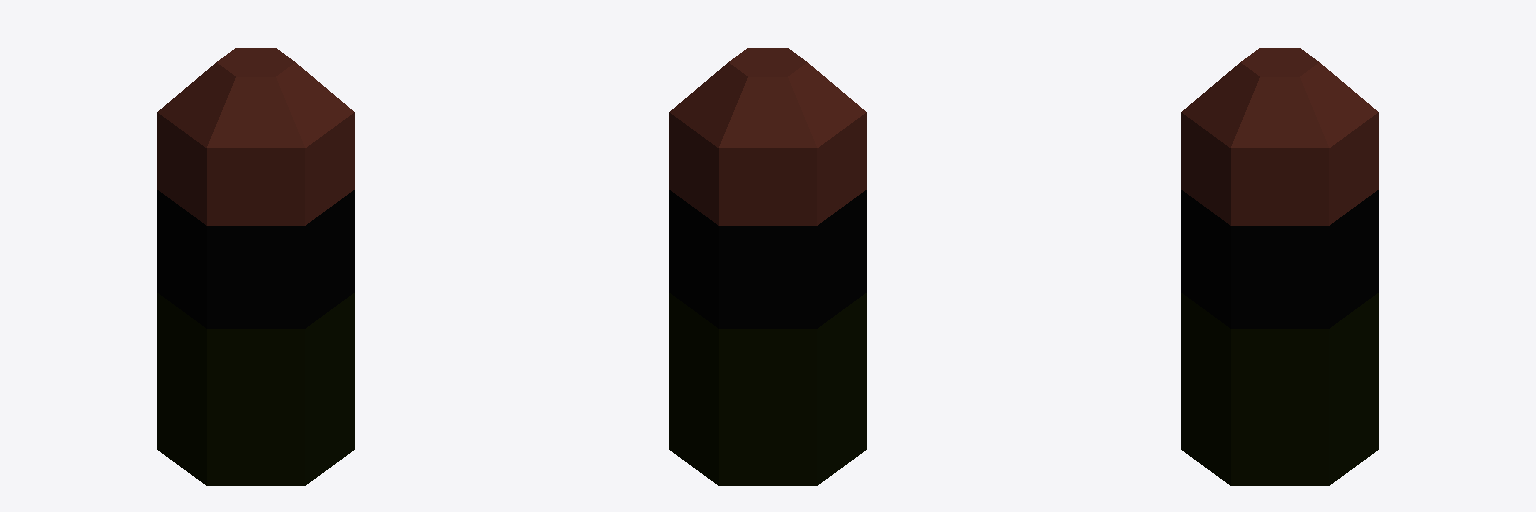
Rendered from M32_Grenade.obj.
3 views of the same model, side by side, from view 1: azimuth 30°, elevation 25°; view 2: azimuth 150°, elevation 25°; view 3: azimuth 270°, elevation 25° (orthographic).
Parts seen in each view (by area): view 1: M32_Grenade_Cube.004; view 2: M32_Grenade_Cube.004; view 3: M32_Grenade_Cube.004.
Boxes of the visible parts, x1=… form: M32_Grenade_Cube.004: x1=157, y1=48, x2=354, y2=485; M32_Grenade_Cube.004: x1=669, y1=48, x2=866, y2=485; M32_Grenade_Cube.004: x1=1181, y1=48, x2=1378, y2=485.
Bounding box in the file's own units: 0.0325 × 0.0811 × 0.0375.